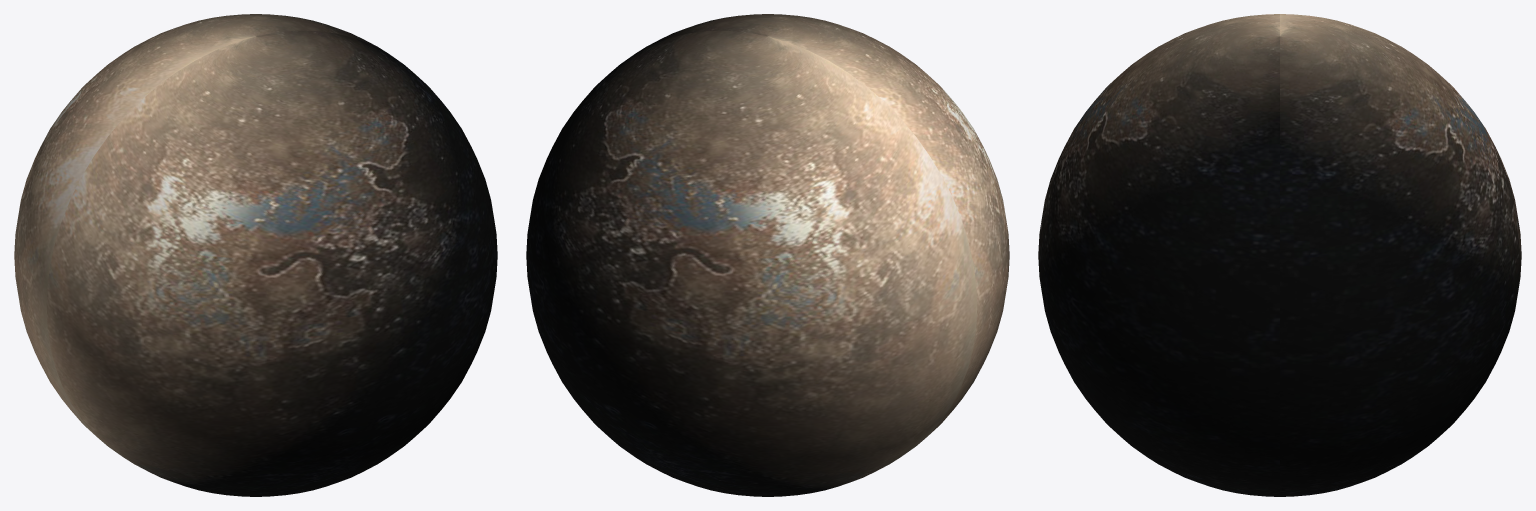
Rendered from Proxima_centauri_b.glb.
3 views of the same model, side by side, from view 1: azimuth 30°, elevation 25°; view 2: azimuth 150°, elevation 25°; view 3: azimuth 270°, elevation 25° (orthographic).
Parts seen in each view (by area): view 1: Proxima_centauri_b; view 2: Proxima_centauri_b; view 3: Proxima_centauri_b.
Boxes of the visible parts, x1,y1,x2,y2 form: Proxima_centauri_b: (14,14,497,496); Proxima_centauri_b: (526,14,1009,496); Proxima_centauri_b: (1038,14,1521,496).
Bounding box in the file's own units: 8 × 8 × 8.
1 material, 1 textured.
